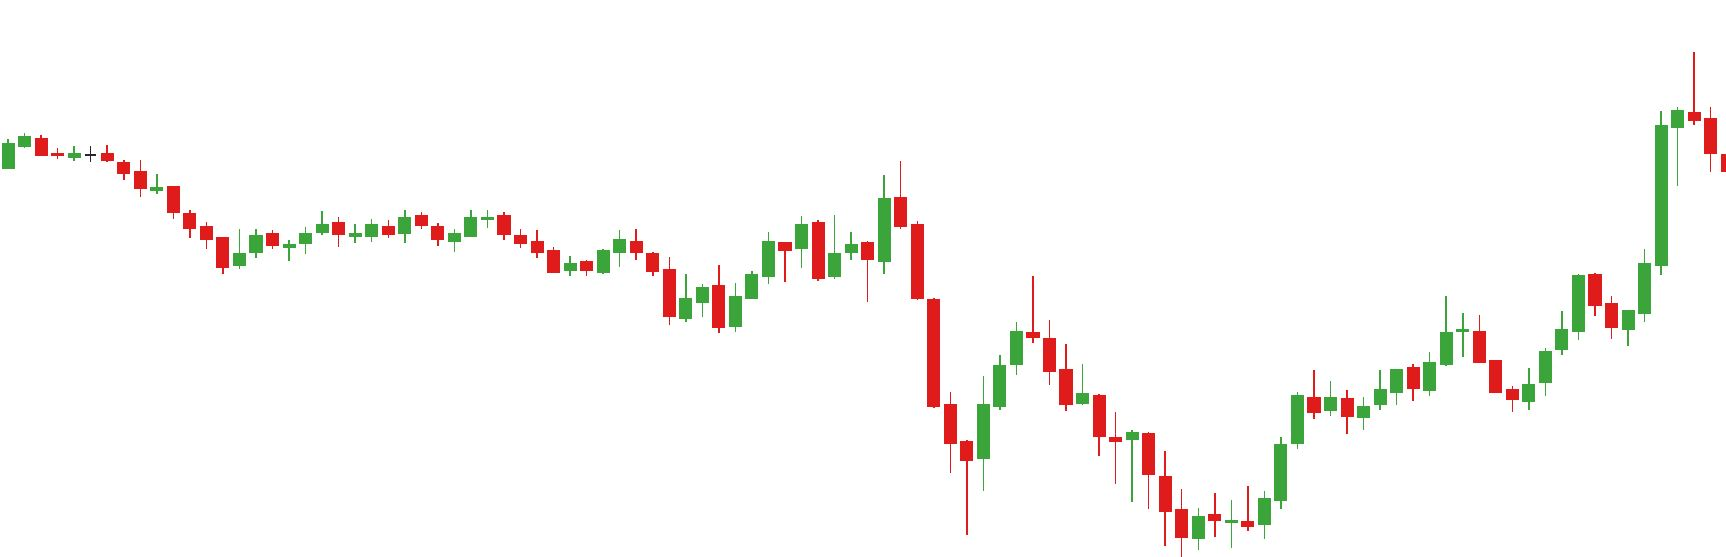sell: (791, 163, 909, 272)
